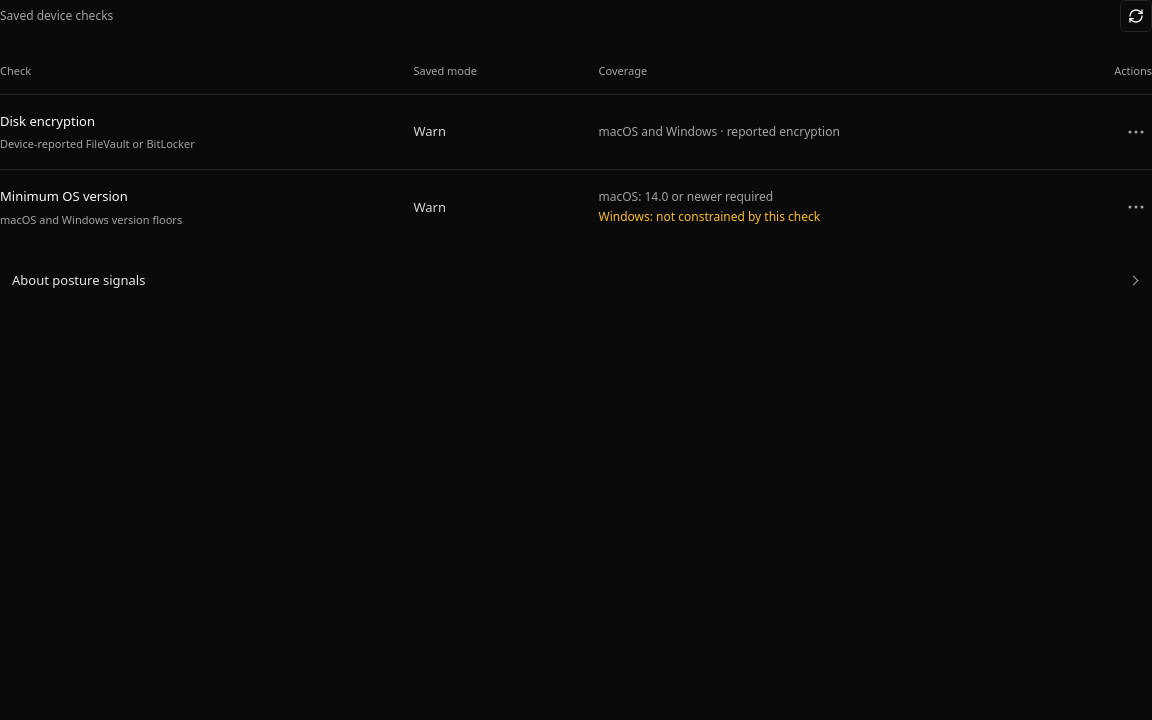
it: Saved device posture policy › refuses an enabled OS check with no minimum and persists Off only through the explicit save
Click the button "Minimum OS version" at (64, 196), box [0,186,377,207]
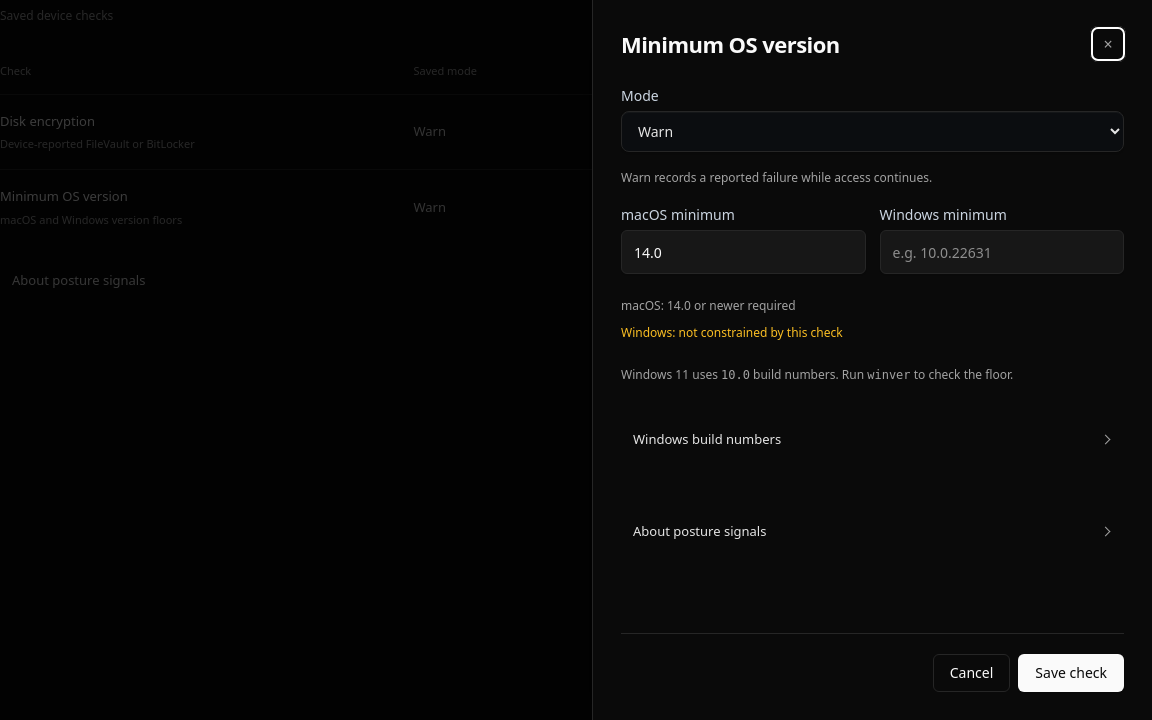
Clear the field labelled "macOS minimum" at (743, 252), box [621,230,866,274]
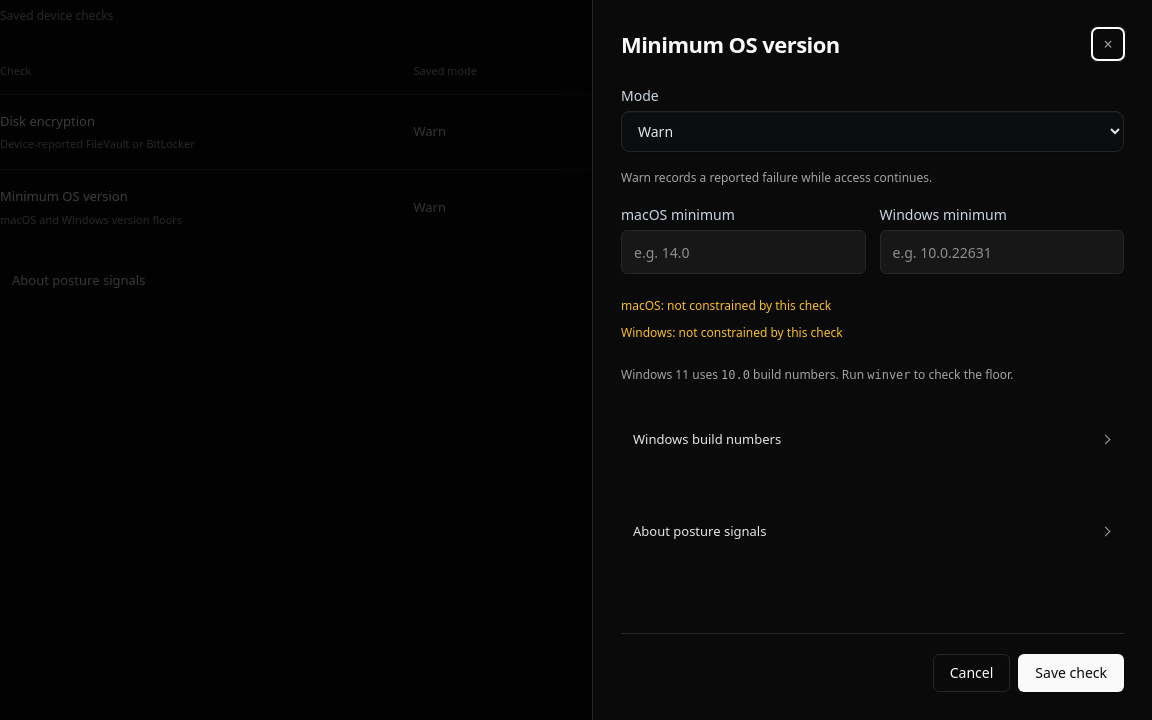
Click the button "Save check" at (1071, 673), box [1018,654,1124,692]
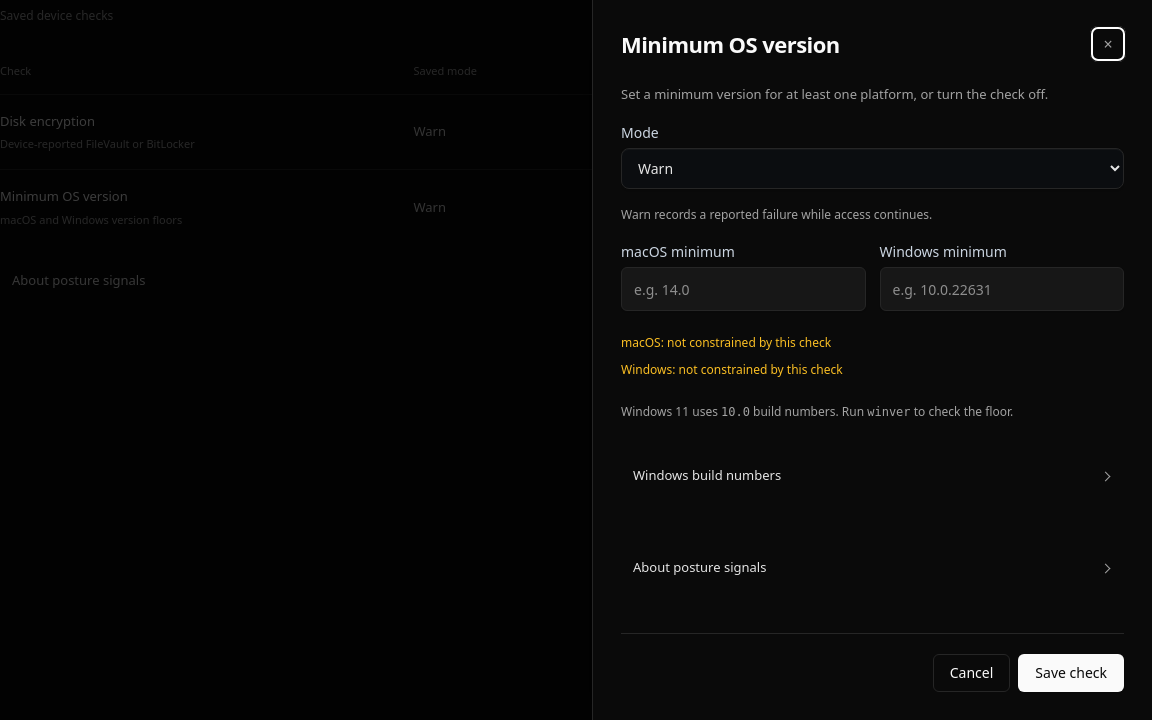
Expected: the text "Set a minimum version for at least one platform, or turn the check off." is shown, [621,85,1048,103]
Select "Off" in the dropdown labelled "Mode" at (872, 168), box [621,148,1124,189]
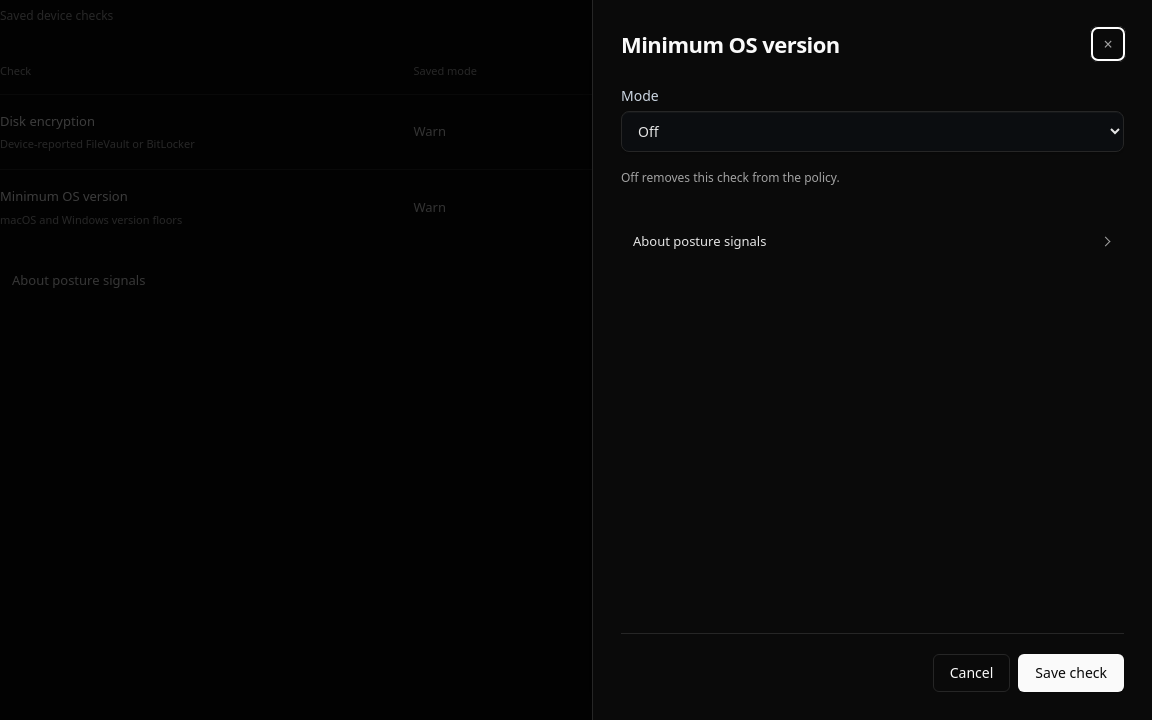
Click the button "Save check" at (1071, 673), box [1018,654,1124,692]
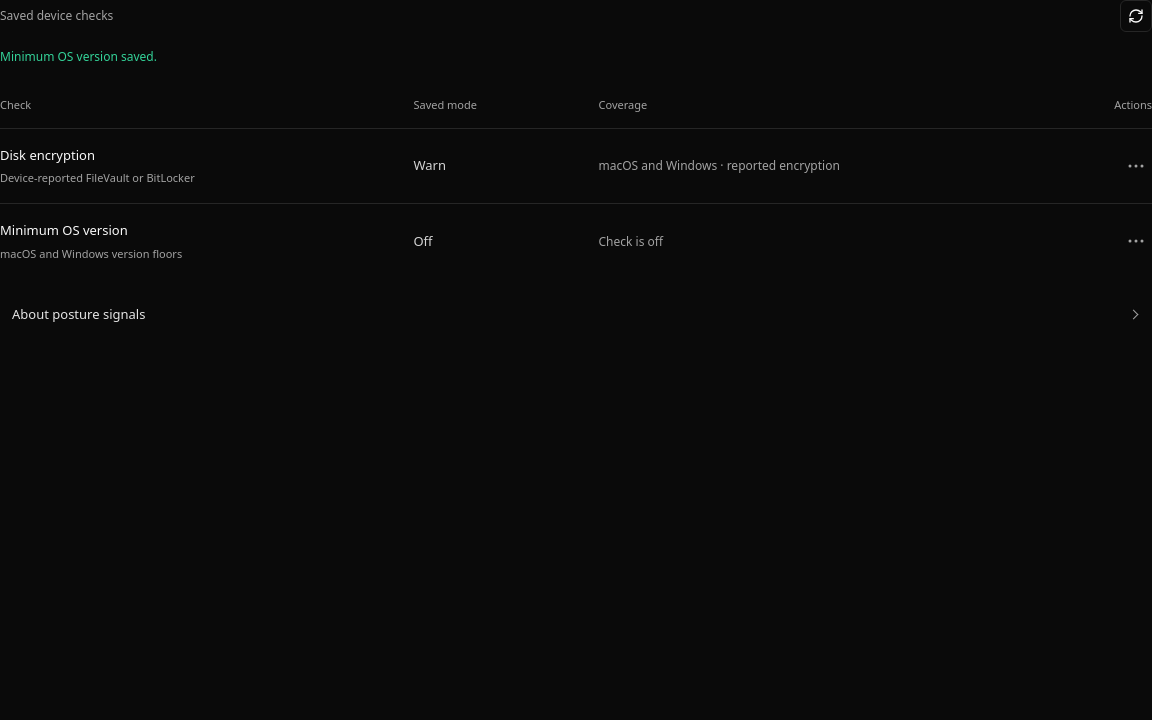
Expected: the text "Minimum OS version saved." is shown, [0,48,157,65]
Expected: the text "Off" is shown, [395,204,580,278]
